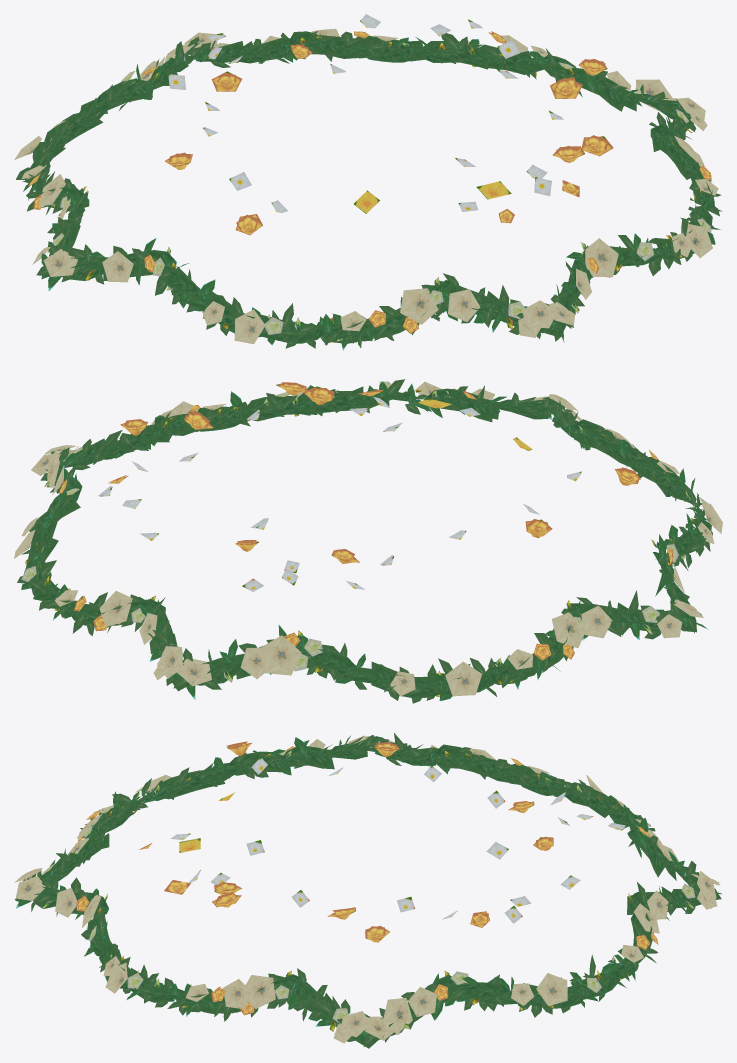
Rendered from Homeworld_Exterior_Common_Build_Decoration_Greenfountain_01_B_Lod0.fbx.
3 views of the same model, one above another, from view 1: azimuth 30°, elevation 25°; view 2: azimuth 150°, elevation 25°; view 3: azimuth 270°, elevation 25° (orthographic). The views are drawn at different scales.
Parts seen in each view (by area): view 1: Homeworld_Exterior_Common_Build_Decoration_Greenfountain_01_; view 2: Homeworld_Exterior_Common_Build_Decoration_Greenfountain_01_; view 3: Homeworld_Exterior_Common_Build_Decoration_Greenfountain_01_.
Boxes of the visible parts, bbox=[...] form: Homeworld_Exterior_Common_Build_Decoration_Greenfountain_01_: bbox=[14, 14, 722, 350]; Homeworld_Exterior_Common_Build_Decoration_Greenfountain_01_: bbox=[14, 379, 722, 703]; Homeworld_Exterior_Common_Build_Decoration_Greenfountain_01_: bbox=[14, 733, 722, 1048].
Size of the model in its own units: 4.76 by 0.6341 by 4.75.
